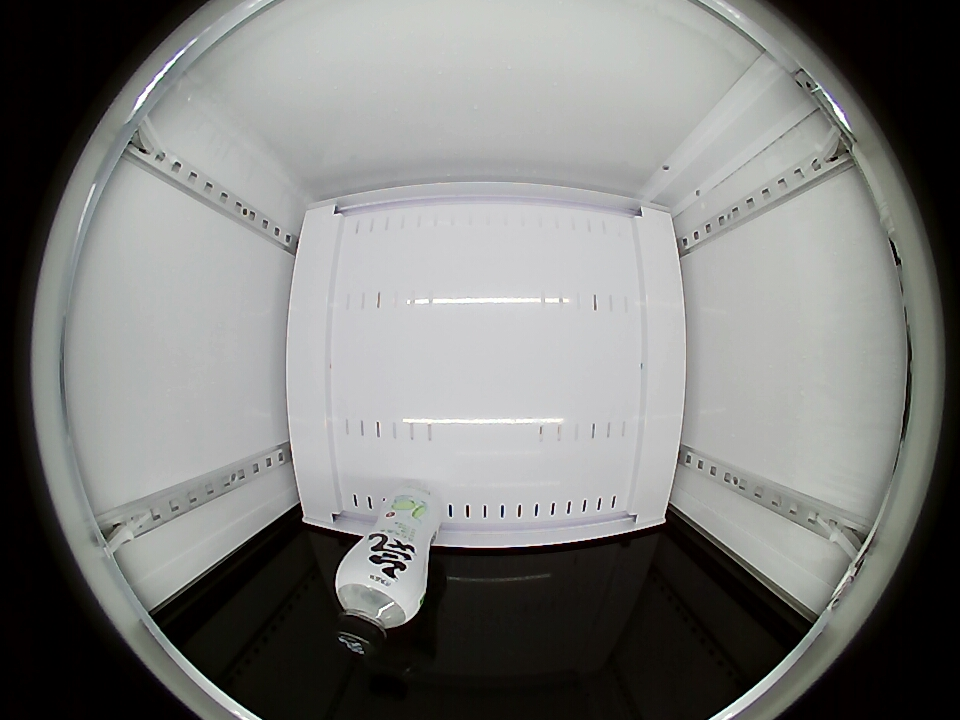yuanqishui: (333, 550, 428, 658)
